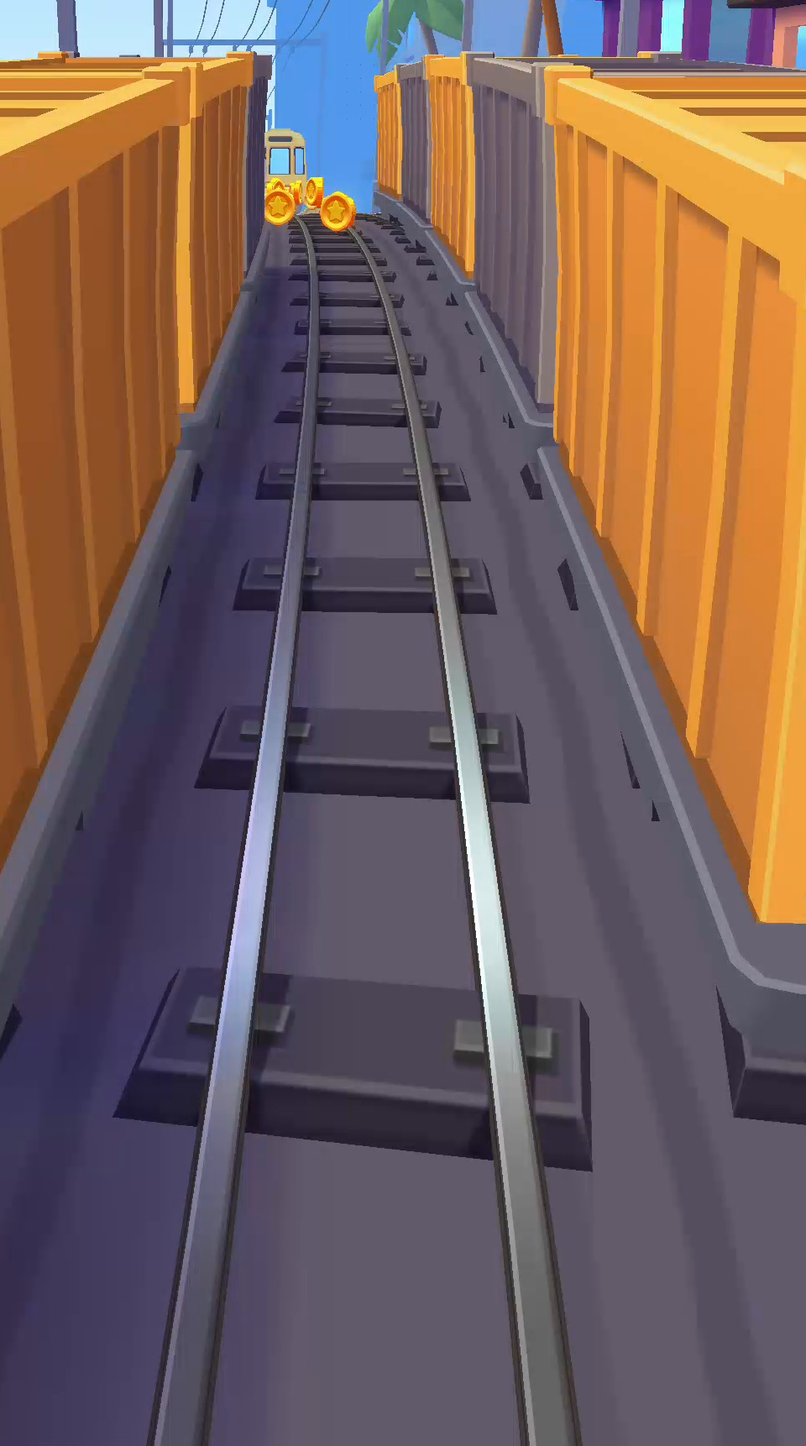train: (374, 52, 805, 925), (0, 54, 267, 867), (266, 129, 306, 182)
